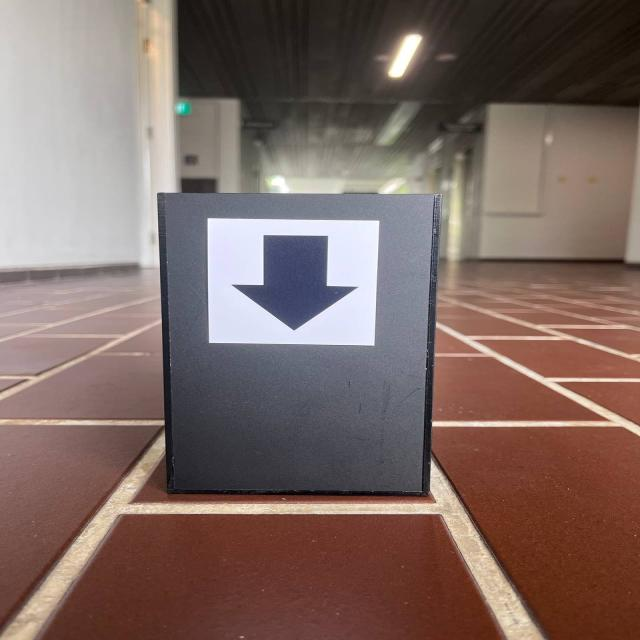downarrow_id37: (206, 217, 377, 348)
